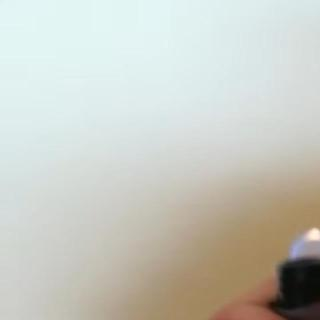smoke: (264, 219, 320, 261)
